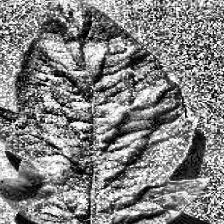spider mites: (0, 0, 208, 224)
